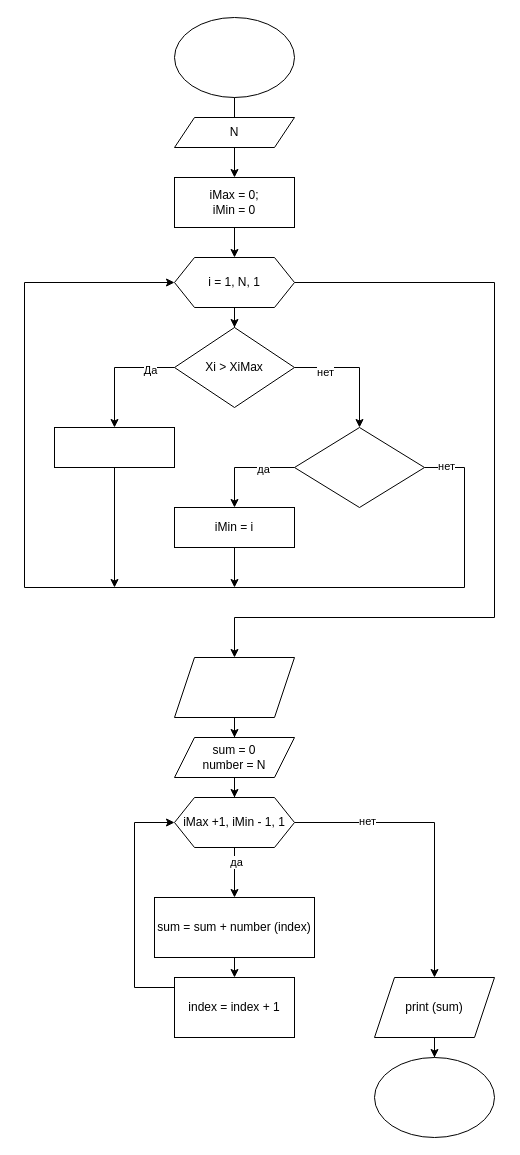
The diagram is 520 pixels wide and 1155 high, and some of its shapes have lost their labels. The centre of each missing label's shape, as x and y in pixels:
iMax = i: point (114, 447)
Xi = XiMin: point (359, 467)
XiMax, iMax XiMin, iMin: point (234, 687)
конец: point (434, 1097)
начало: point (234, 57)
